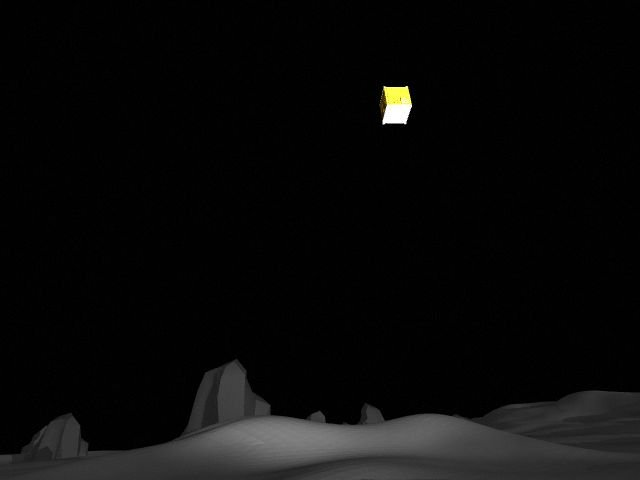cubesat: (376, 81, 417, 130)
